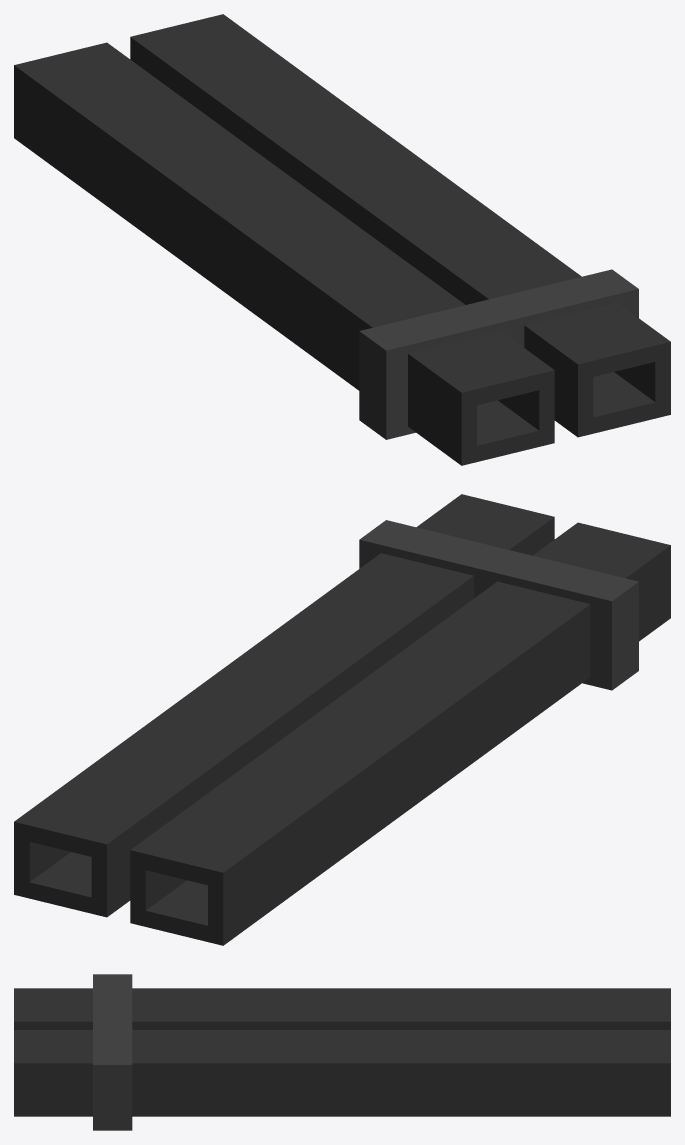
The model's file is HJD_SFB_Cable_01.fbx.
3 views of the same model, one above another, from view 1: azimuth 30°, elevation 25°; view 2: azimuth 150°, elevation 25°; view 3: azimuth 270°, elevation 25° (orthographic). The views are drawn at different scales.
Visible parts, largest first — view 1: HJD_SFB_Asset; view 2: HJD_SFB_Asset; view 3: HJD_SFB_Asset.
Part boxes in pixels (x1,y1,x2,y2): HJD_SFB_Asset: (14, 14, 670, 465); HJD_SFB_Asset: (14, 494, 670, 945); HJD_SFB_Asset: (14, 974, 670, 1130).
Size of the model in its own units: 32.6 by 11 by 100.
